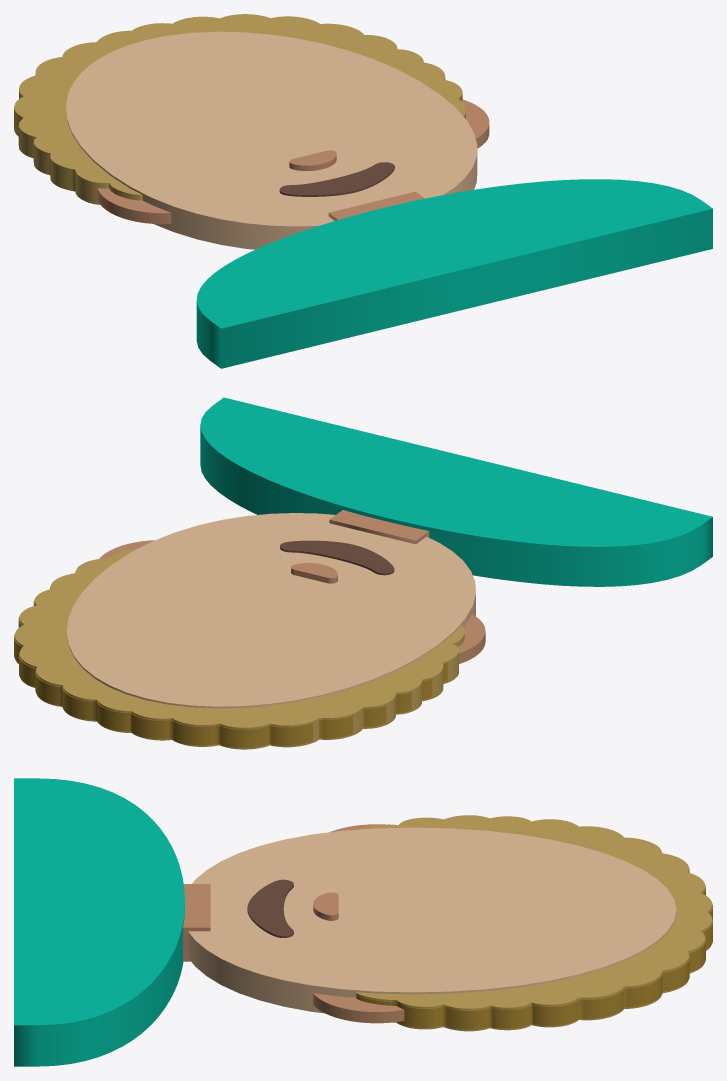
File: emoji_u1f468_1f3fc_200d_1f9b1.glb
3 views of the same model, one above another, from view 1: azimuth 30°, elevation 25°; view 2: azimuth 150°, elevation 25°; view 3: azimuth 270°, elevation 25° (orthographic). The views are drawn at different scales.
Visible parts, largest first — view 1: emoji_u1f468_1f3fc_200d_1f9b1; view 2: emoji_u1f468_1f3fc_200d_1f9b1; view 3: emoji_u1f468_1f3fc_200d_1f9b1.
Part boxes in pixels (<box>): emoji_u1f468_1f3fc_200d_1f9b1: <box>14,14,712,368</box>; emoji_u1f468_1f3fc_200d_1f9b1: <box>14,397,712,749</box>; emoji_u1f468_1f3fc_200d_1f9b1: <box>14,778,712,1066</box>.
Bounding box in the file's own units: 0.0282 × 0.0022 × 0.0337.
